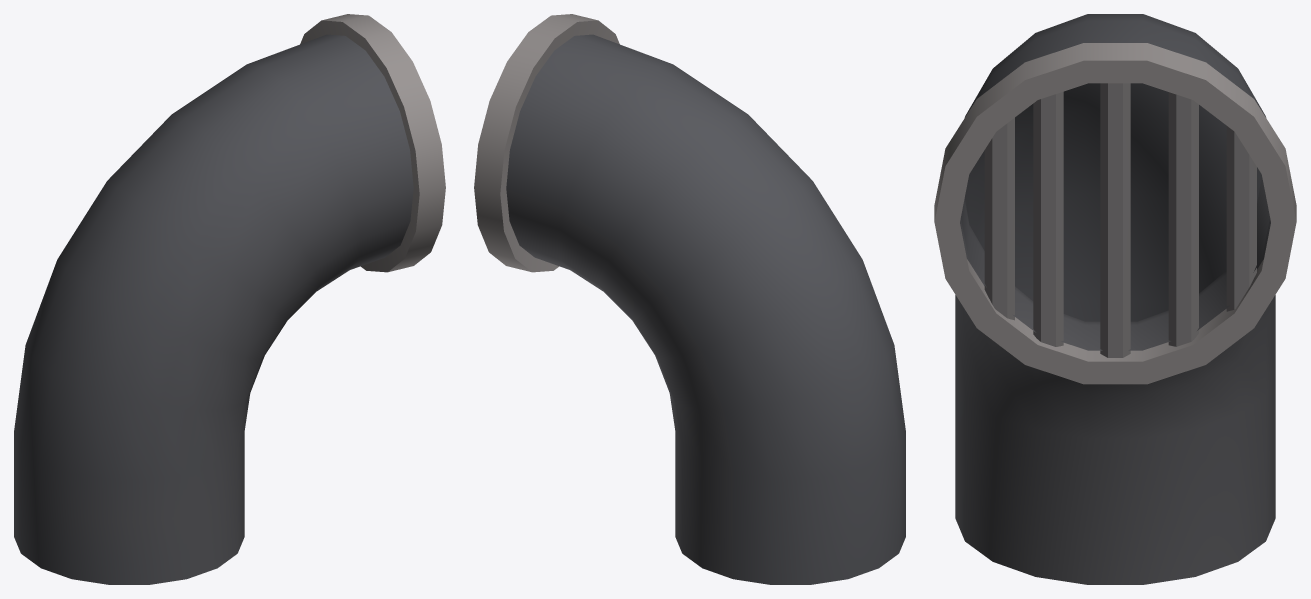
File: EGOUE.fbx
3 renders of one model, left to right at view 1: azimuth 30°, elevation 25°; view 2: azimuth 150°, elevation 25°; view 3: azimuth 270°, elevation 25°, orthographic. The views are drawn at different scales.
Parts seen in each view (by area): view 1: EGOUE; view 2: EGOUE; view 3: EGOUE.
Boxes of the visible parts, x1,y1,x2,y2 form: EGOUE: [14, 14, 445, 584]; EGOUE: [474, 14, 905, 584]; EGOUE: [934, 14, 1296, 584].
Size of the model in its own units: 351 by 432 by 226.
